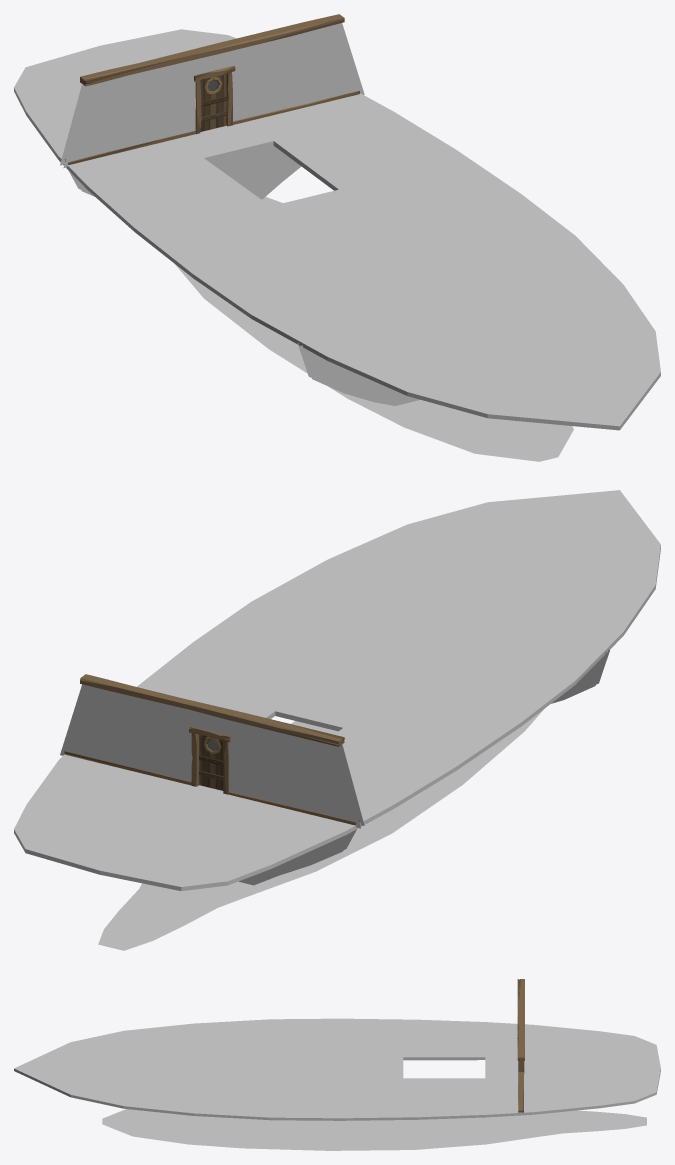
The model's file is SM_Veh_Ship_L_Floor_02.fbx.
3 views of the same model, one above another, from view 1: azimuth 30°, elevation 25°; view 2: azimuth 150°, elevation 25°; view 3: azimuth 270°, elevation 25° (orthographic). The views are drawn at different scales.
Parts seen in each view (by area): view 1: SM_Veh_Ship_L_Floor_02, SM_Veh_Ship_L_Floor_02_Door; view 2: SM_Veh_Ship_L_Floor_02, SM_Veh_Ship_L_Floor_02_Door; view 3: SM_Veh_Ship_L_Floor_02.
Boxes of the visible parts, x1,y1,x2,y2 form: SM_Veh_Ship_L_Floor_02: (14, 14, 660, 461); SM_Veh_Ship_L_Floor_02_Door: (200, 74, 226, 131); SM_Veh_Ship_L_Floor_02: (14, 490, 660, 950); SM_Veh_Ship_L_Floor_02_Door: (199, 734, 223, 790); SM_Veh_Ship_L_Floor_02: (14, 979, 660, 1150).
Size of the model in its own units: 1209 by 591 by 3317.
